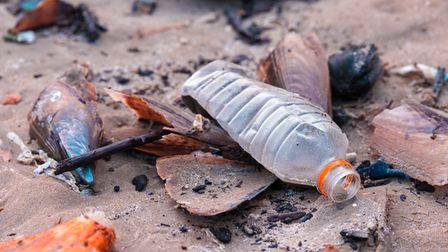Plastic: (181, 60, 361, 204)
